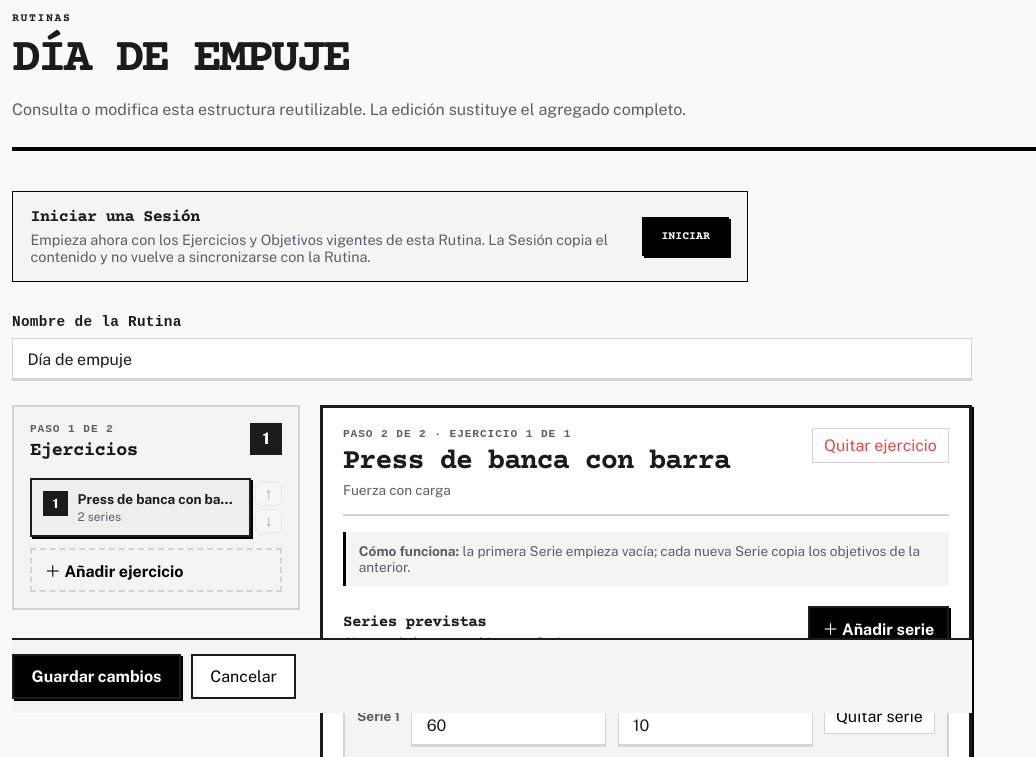
Scenario: editar una Rutina › una revisión obsoleta informa del conflicto y carga la versión vigente sin mezclar
Replace the text in the field labelled "Nombre de la Rutina" with "Cambio ajeno" at (492, 359), box top-left (12, 338), bottom-right (972, 381)
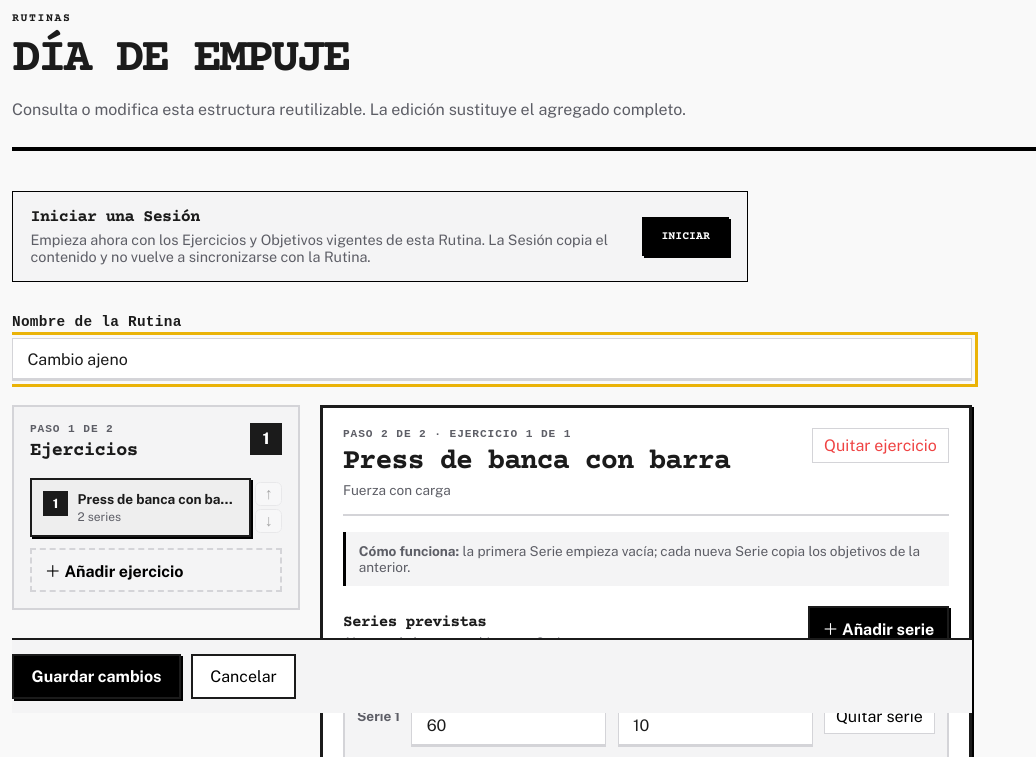
Click the button "Guardar cambios" at (97, 676), box top-left (12, 654), bottom-right (181, 699)
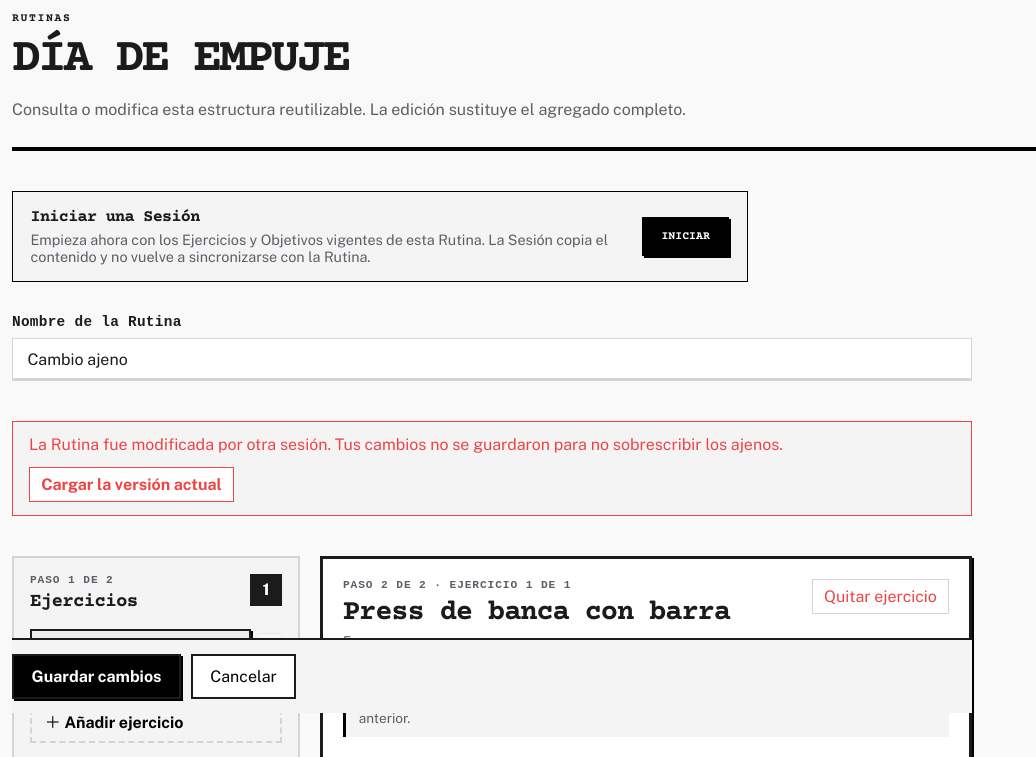
Now the message shows "modificada por otra sesión", box top-left (29, 435), bottom-right (783, 454)
cargar la versión vigente reobtiene el documento y remonta el editor
Click the button "Cargar la versión actual" at (131, 484), box top-left (29, 466), bottom-right (234, 502)
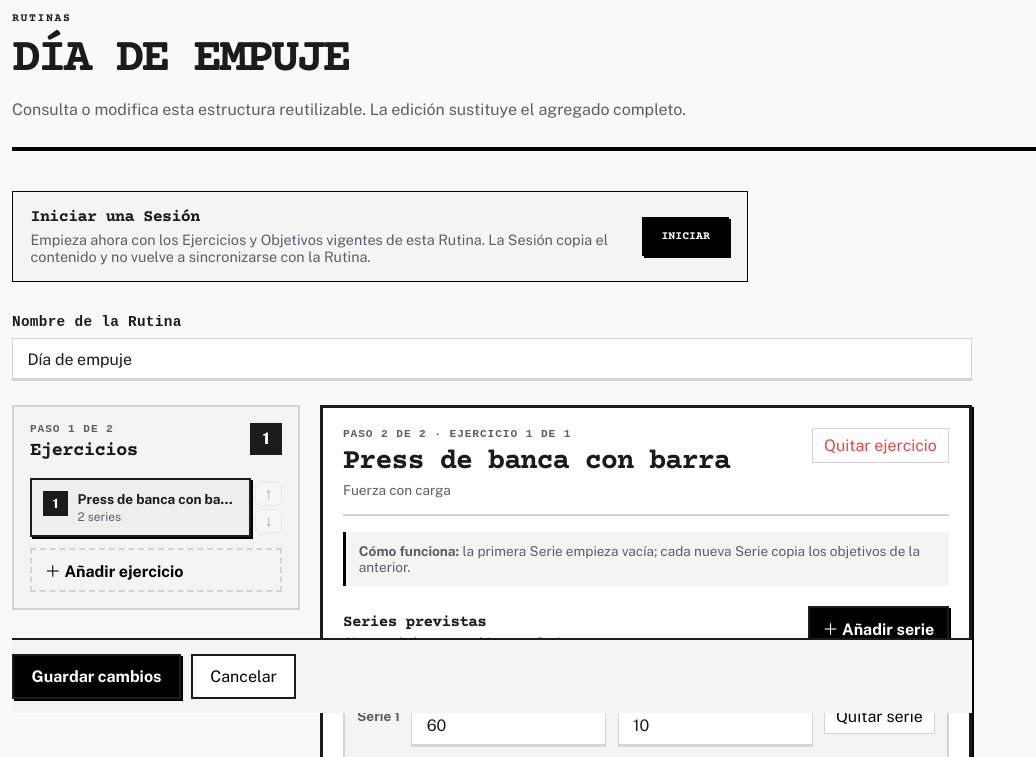
Now the field labelled "Nombre de la Rutina" holds "Día de empuje", box top-left (12, 338), bottom-right (972, 381)
